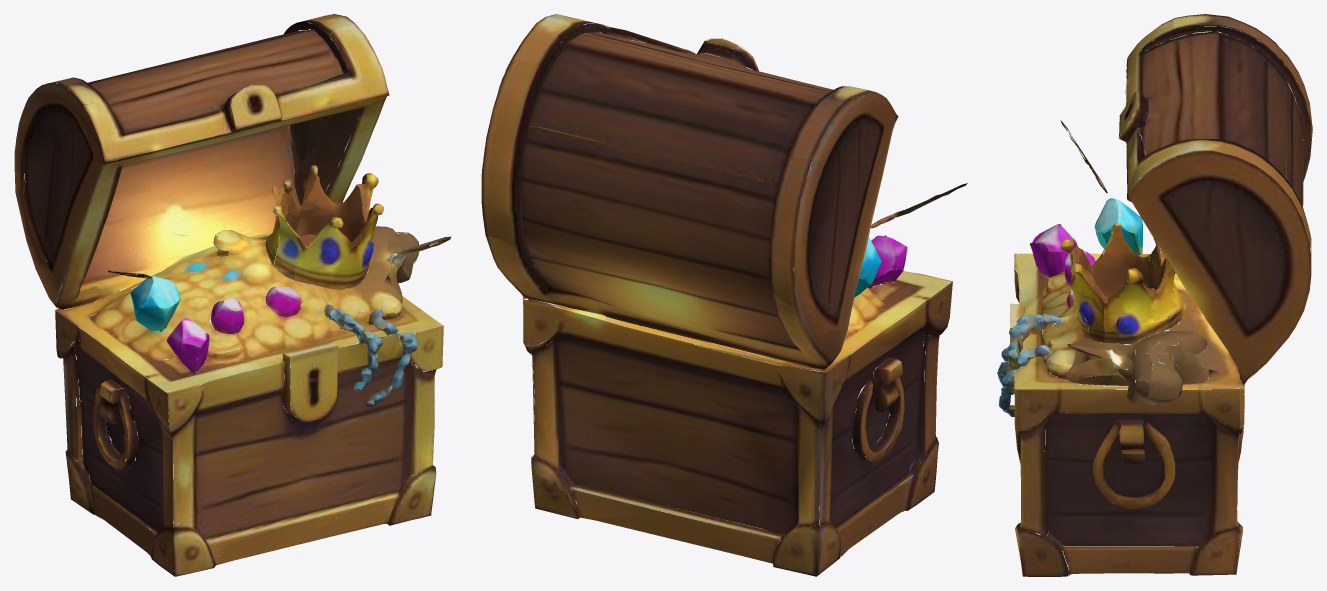
Rendered from treasure.glb.
The picture shows the model from 3 angles, left to right: view 1: azimuth 30°, elevation 25°; view 2: azimuth 150°, elevation 25°; view 3: azimuth 270°, elevation 25°; orthographic projection. The views are drawn at different scales.
Visible parts, largest first — view 1: geometry_0; view 2: geometry_0; view 3: geometry_0.
Boxes of the visible parts, bbox=[...] form: geometry_0: bbox=[14, 14, 451, 576]; geometry_0: bbox=[481, 14, 967, 576]; geometry_0: bbox=[997, 14, 1312, 576].
Bounding box in the file's own units: 0.6785 × 0.7799 × 0.5185.
1 material, 1 textured.
